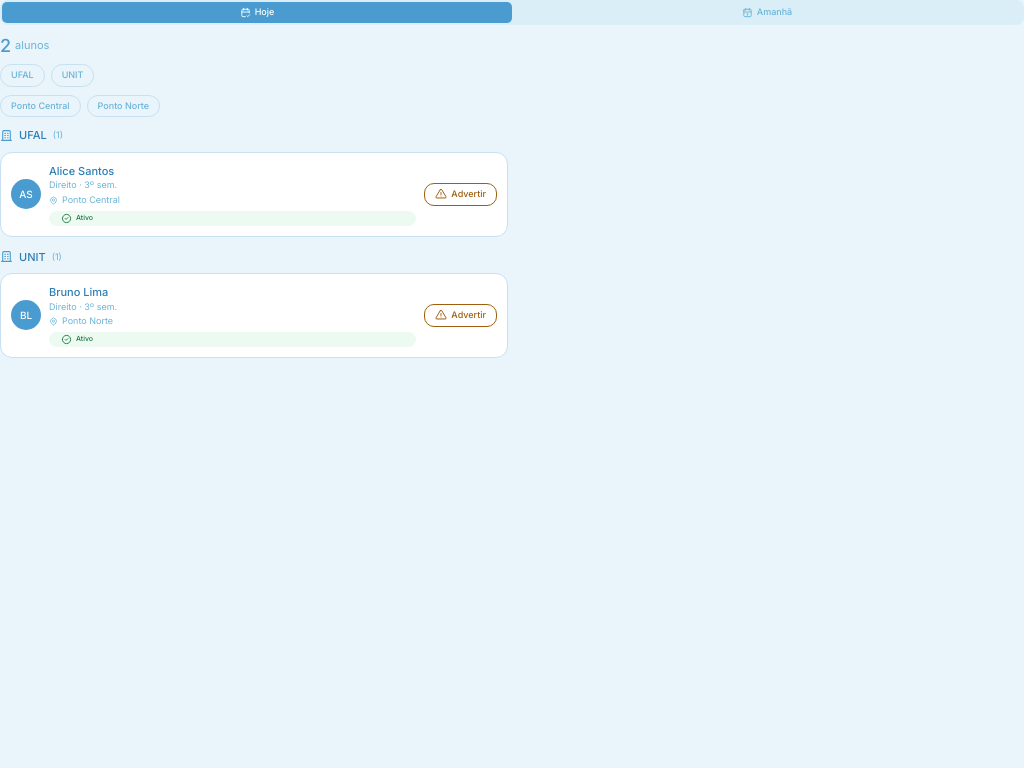
Scenario: ListaAlunosPage — modal de advertência › abre o modal ao clicar no botão de advertência
Click the button "Advertir" in the row of "AS".
click(461, 194)  # box x1=424 y1=183 x2=497 y2=206
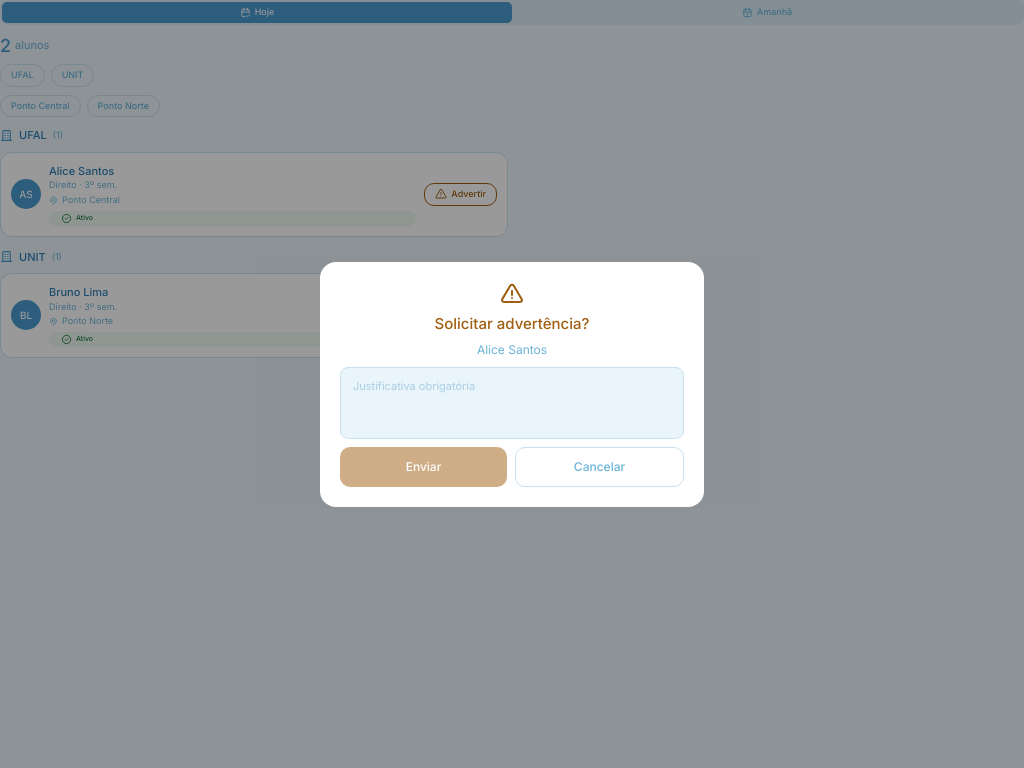
Now the dialog is shown
